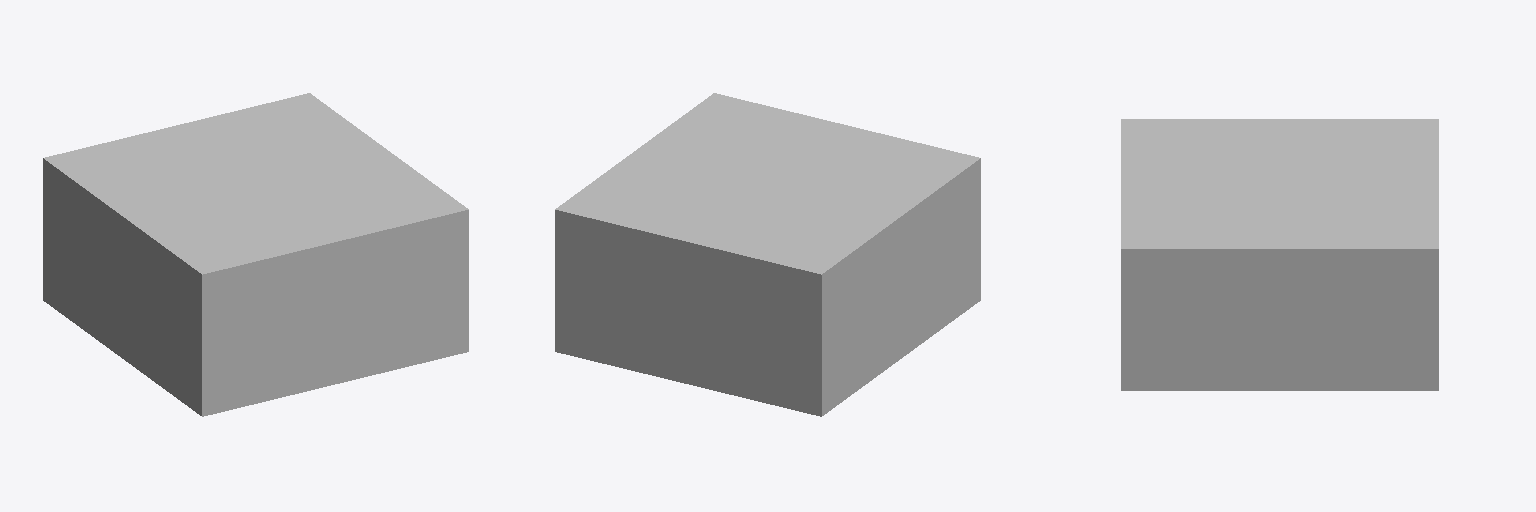
Rendered from Test Room.obj.
3 renders of one model, left to right at view 1: azimuth 30°, elevation 25°; view 2: azimuth 150°, elevation 25°; view 3: azimuth 270°, elevation 25°, orthographic.
Visible parts, largest first — view 1: pCube5; view 2: pCube5; view 3: pCube5.
Boxes of the visible parts, box(x1,y1,x2,y2) form: pCube5: box(43, 93, 468, 416); pCube5: box(555, 93, 980, 416); pCube5: box(1121, 119, 1438, 390).
Size of the model in its own units: 191 by 98.69 by 197.